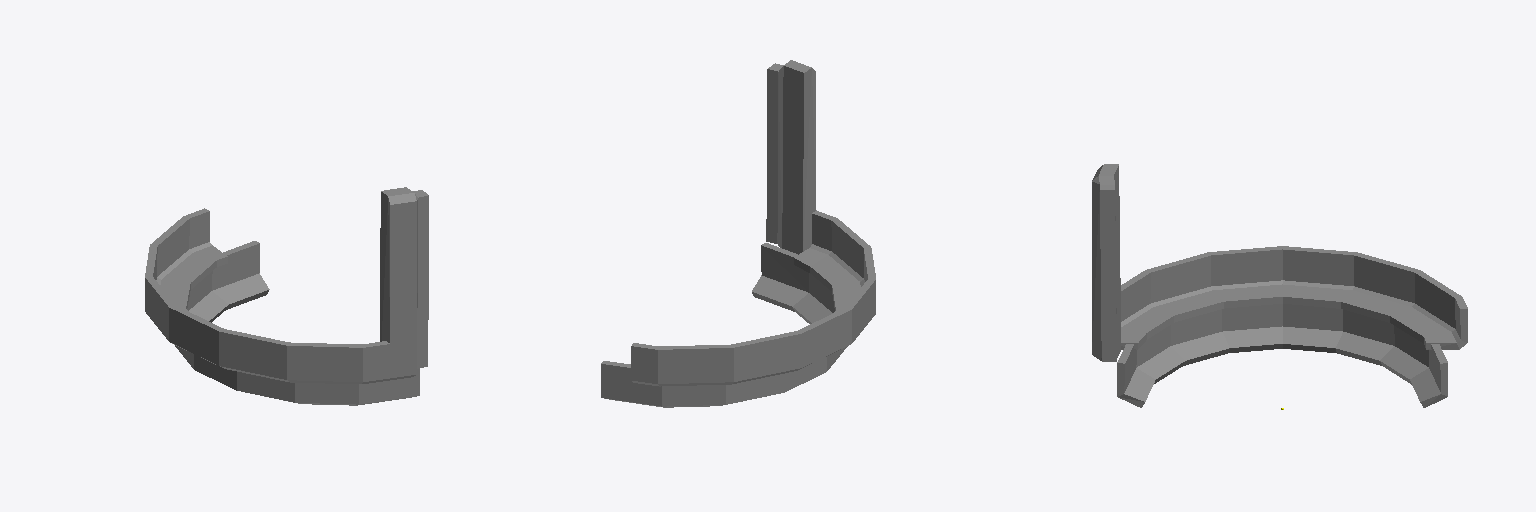
The model's file is cpz_obj_pipelinecapA_brk_010.obj.
The picture shows the model from 3 angles: view 1: azimuth 30°, elevation 25°; view 2: azimuth 150°, elevation 25°; view 3: azimuth 270°, elevation 25°; orthographic projection.
Visible parts, largest first — view 1: ccp_metal_yy_floor3_Cmn_dpn, ccp_metal_yy_gray_Cmn_dpn, cpz_metal_st1_floor01_Lumi_dpnE; view 2: ccp_metal_yy_floor3_Cmn_dpn, ccp_metal_yy_gray_Cmn_dpn, cpz_metal_st1_floor01_Lumi_dpnE; view 3: ccp_metal_yy_gray_Cmn_dpn, ccp_metal_yy_floor3_Cmn_dpn.
Part boxes in pixels (bbox=[...]): ccp_metal_yy_floor3_Cmn_dpn: bbox=[145, 187, 417, 383]; ccp_metal_yy_gray_Cmn_dpn: bbox=[145, 208, 419, 405]; cpz_metal_st1_floor01_Lumi_dpnE: bbox=[413, 190, 428, 368]; ccp_metal_yy_floor3_Cmn_dpn: bbox=[631, 60, 875, 386]; ccp_metal_yy_gray_Cmn_dpn: bbox=[601, 210, 875, 407]; cpz_metal_st1_floor01_Lumi_dpnE: bbox=[766, 63, 783, 243]; ccp_metal_yy_gray_Cmn_dpn: bbox=[1100, 190, 1467, 407]; ccp_metal_yy_floor3_Cmn_dpn: bbox=[1092, 164, 1460, 360].
Size of the model in its own units: 25.48 by 32.28 by 48.61.